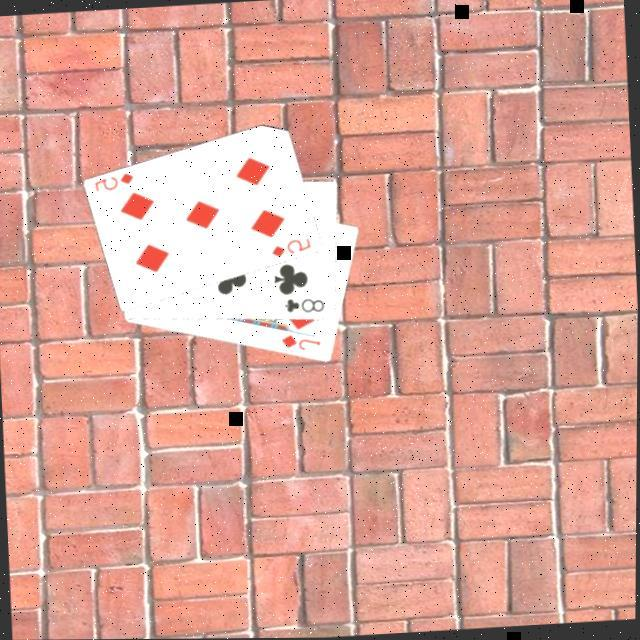5D: (92, 171, 139, 197), (270, 237, 316, 263)
8C: (282, 296, 330, 320)
JD: (278, 332, 326, 358)
